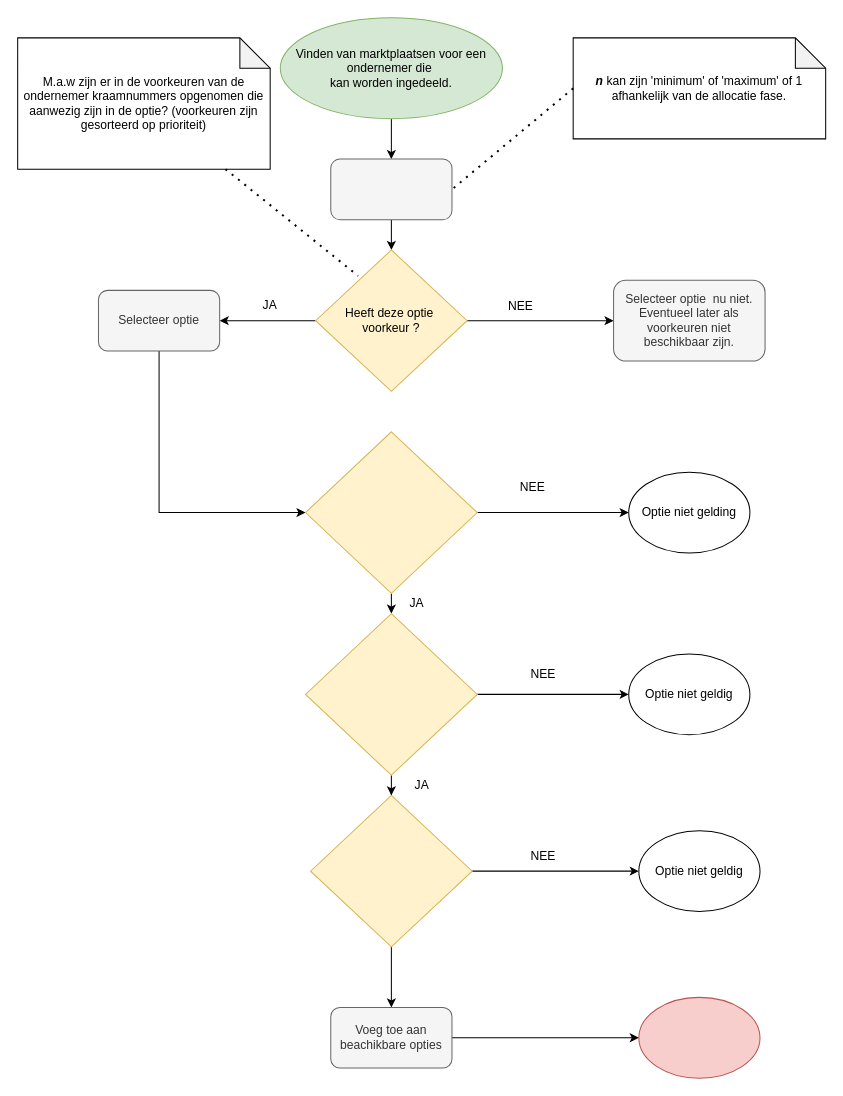
The diagram is 843 pixels wide and 1096 high, and some of its shapes have lost their labels. The shapes that lost their labels are listed below. From the top down, each one's centre as x and y in pixels, then its label:
At [391,189]: "Zoek een n aantal aaneengesloten kramen (een 'optie')".
At [391,512]: "Is deze optie valide m.b.t branche?".
At [391,694]: "Is deze optie valide m.b.t EVI?".
At [391,870]: "Is deze optie nog vrij?".
At [699,1037]: "Beschikbare opties".
